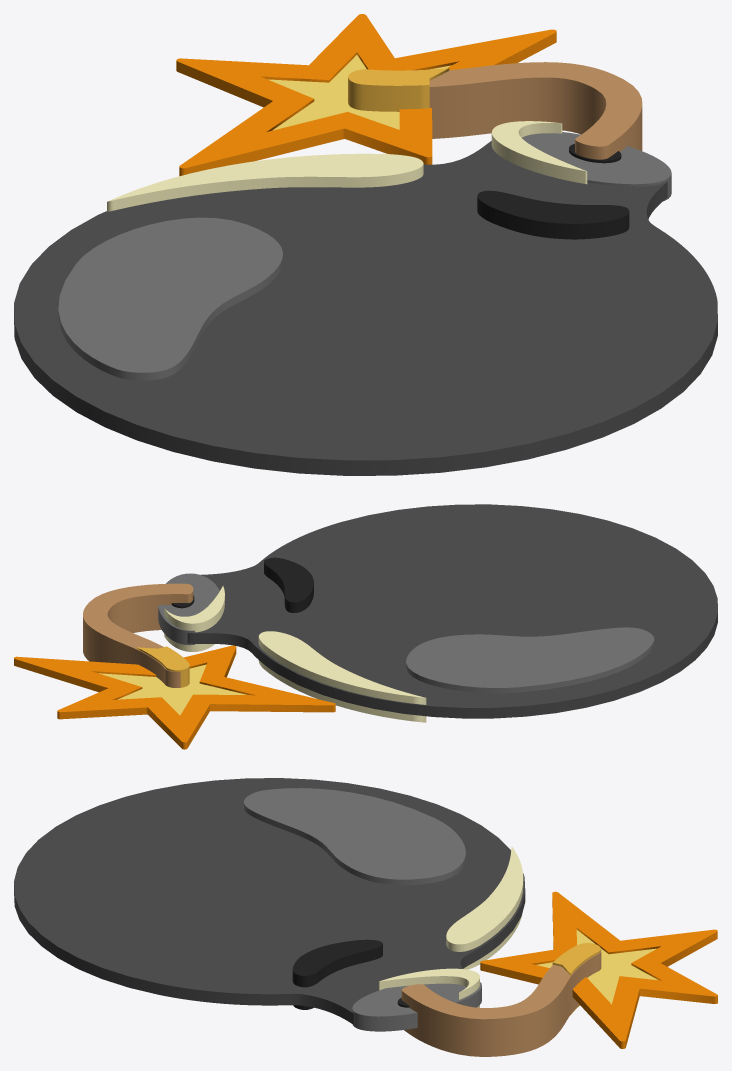
Rendered from emoji_u1f4a3.glb.
3 renders of one model, top to bottom at view 1: azimuth 30°, elevation 25°; view 2: azimuth 150°, elevation 25°; view 3: azimuth 270°, elevation 25°, orthographic. The views are drawn at different scales.
Parts seen in each view (by area): view 1: emoji_u1f4a3; view 2: emoji_u1f4a3; view 3: emoji_u1f4a3.
Part boxes in pixels (x1,y1,x2,y2): emoji_u1f4a3: [14, 14, 717, 475]; emoji_u1f4a3: [14, 504, 717, 749]; emoji_u1f4a3: [14, 778, 717, 1056].
Bounding box in the file's own units: 0.0297 × 0.0022 × 0.0338.
